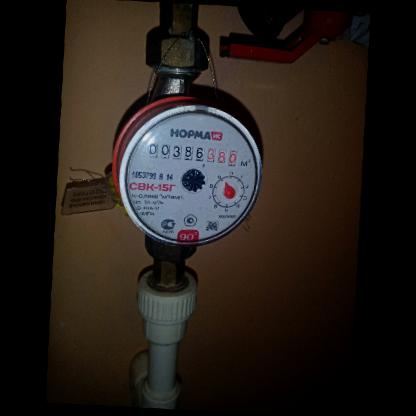digital_screen: (145, 136, 207, 167)
